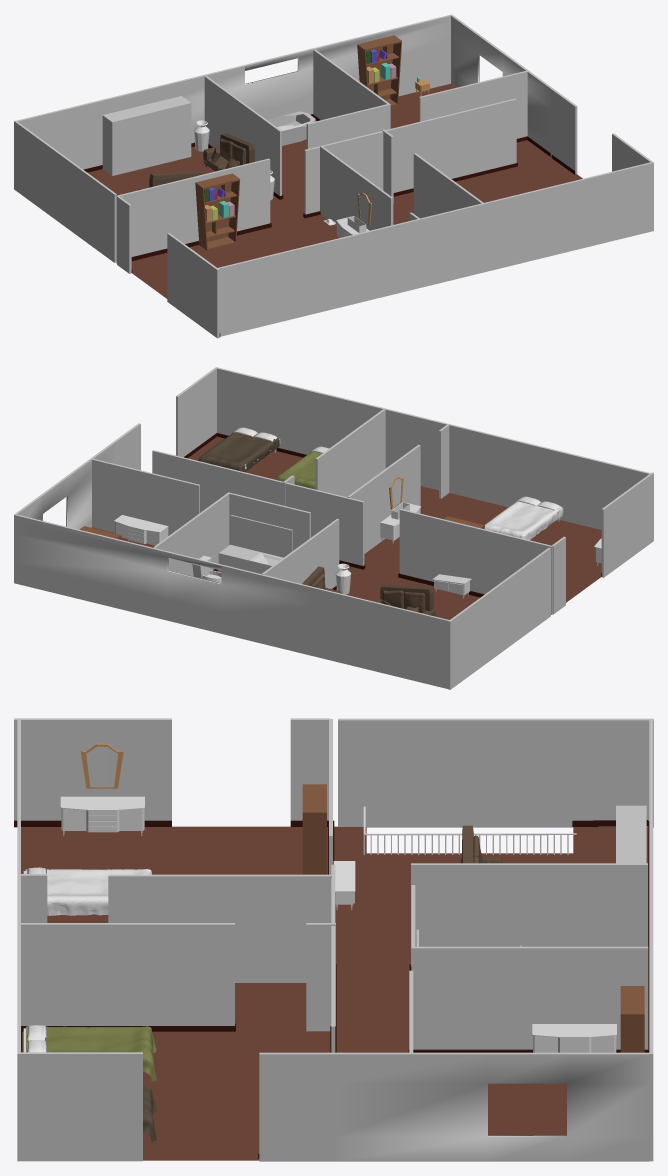
File: sobrero.fbx
3 views of the same model, one above another, from view 1: azimuth 30°, elevation 25°; view 2: azimuth 150°, elevation 25°; view 3: azimuth 270°, elevation 25° (orthographic). The views are drawn at different scales.
Parts seen in each view (by area): view 1: Cube.009_Cube.000, Plane.002, Cube.025_Cube.009, Cube.029, Cube.031, Cube.191, Cube.039, Cube.026_Cube.016, Cube.040; view 2: Cube.009_Cube.000, Plane.002, Cube_Cube.030, Plane.005, Plane.006, Cube.040, Cube.004, Plane.003, Cube.191, Cube.089, Cube.151; view 3: Cube.009_Cube.000, Plane.002, Plane.003, Plane.006, Cube.098, Cube.191, Cube.003, Cube.029, Cube.025_Cube.009, Cube.031, Cube.096, Cube.086 (+3 smaller).
Part boxes in pixels (x1,y1,x2,y2): Cube.009_Cube.000: [14, 14, 653, 338]; Plane.002: [88, 83, 582, 298]; Cube.025_Cube.009: [102, 96, 191, 175]; Cube.029: [195, 173, 240, 250]; Cube.031: [357, 35, 401, 106]; Cube.191: [83, 114, 575, 336]; Cube.039: [203, 133, 254, 171]; Cube.026_Cube.016: [266, 111, 315, 145]; Cube.040: [139, 170, 202, 189]; Cube.009_Cube.000: [14, 367, 653, 689]; Plane.002: [91, 436, 601, 619]; Cube_Cube.030: [218, 515, 292, 573]; Plane.005: [198, 432, 279, 472]; Plane.006: [484, 501, 562, 540]; Cube.040: [375, 584, 435, 616]; Cube.004: [114, 515, 168, 545]; Plane.003: [276, 451, 321, 489]; Cube.191: [184, 433, 601, 597]; Cube.089: [432, 574, 471, 595]; Cube.151: [380, 503, 420, 543]; Cube.009_Cube.000: [14, 718, 653, 1161]; Plane.002: [21, 826, 648, 1160]; Plane.003: [25, 1025, 156, 1081]; Plane.006: [25, 867, 151, 915]; Cube.098: [60, 796, 144, 835]; Cube.191: [14, 820, 649, 1158]; Cube.003: [532, 1024, 616, 1052]; Cube.029: [302, 784, 326, 874]; Cube.025_Cube.009: [616, 805, 646, 863]; Cube.031: [620, 986, 644, 1052]; Cube.096: [81, 743, 123, 788]; Cube.086: [363, 835, 568, 854].
Size of the model in its own units: 2013 by 307 by 1620.
